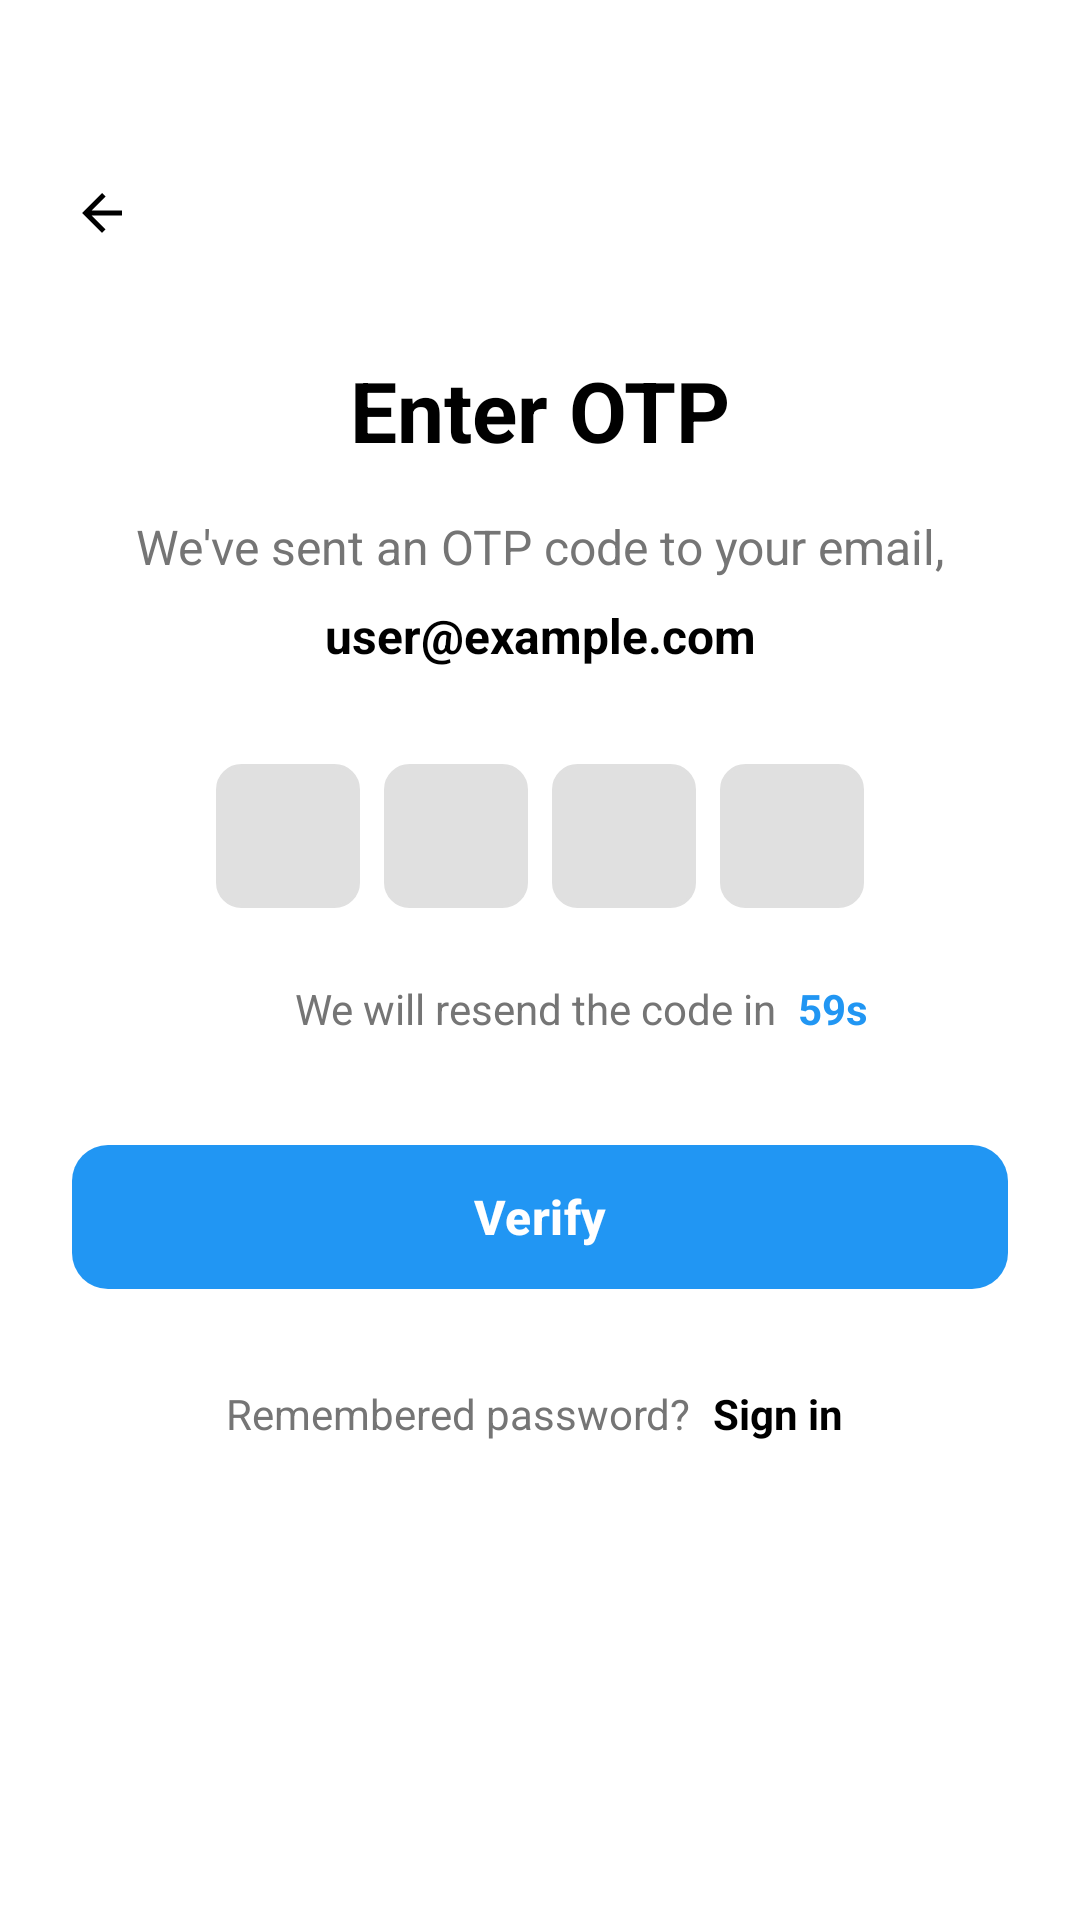

Point at icon controls on the screen. Image size 1080 × 1920, points as (x=x, y=y).
arrow back: (x=102, y=213)
